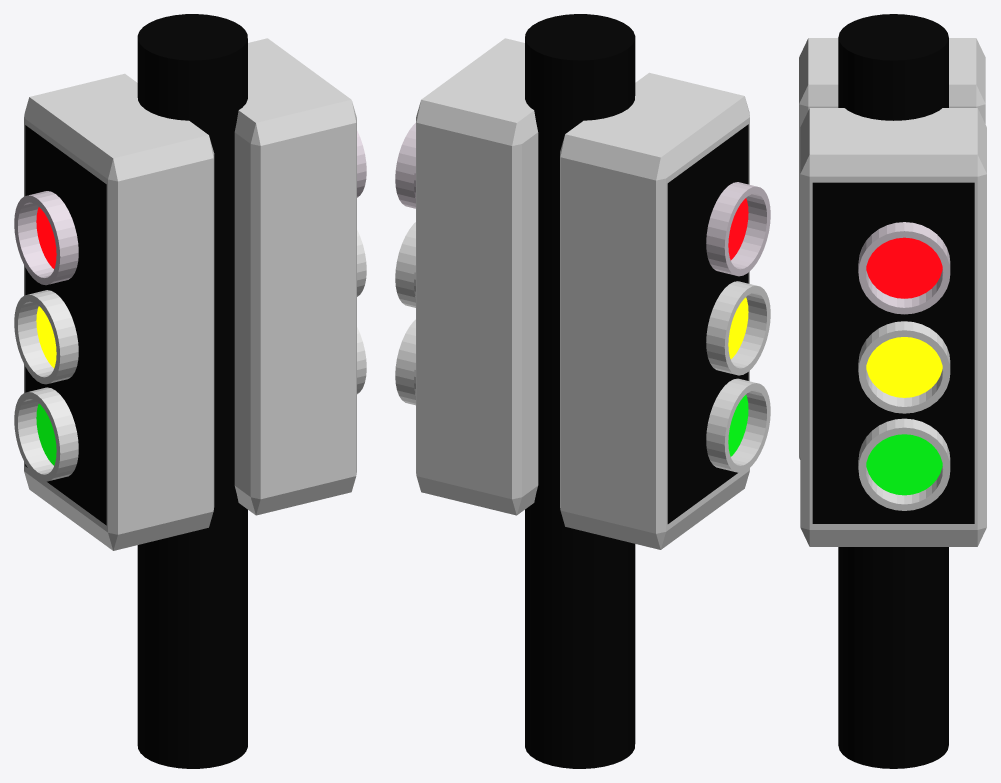
The model's file is uk_traffic_light_double_1.fbx.
The picture shows the model from 3 angles, left to right: view 1: azimuth 30°, elevation 25°; view 2: azimuth 150°, elevation 25°; view 3: azimuth 270°, elevation 25°; orthographic projection.
Parts seen in each view (by area): view 1: Cube.001, Cube, Cylinder, Circle.004, Circle.005, Circle.003; view 2: Cube.001, Cube, Cylinder, Circle.005, Circle.003, Circle.004, Circle.001, Circle.002, Circle; view 3: Cube, Cylinder, Circle.001, Circle.002, Circle, Cube.001.
Part boxes in pixels (x1,y1,x2,y2): Cube.001: (24, 73, 214, 550); Cube: (234, 38, 356, 515); Cylinder: (137, 14, 247, 768); Circle.004: (14, 290, 78, 384); Circle.005: (14, 191, 78, 285); Circle.003: (14, 387, 78, 481); Cube.001: (560, 72, 749, 549); Cube: (416, 38, 538, 515); Cylinder: (525, 14, 635, 768); Circle.005: (706, 182, 770, 276); Circle.003: (706, 378, 770, 472); Circle.004: (706, 281, 770, 375); Circle.001: (395, 222, 415, 307); Circle.002: (395, 319, 415, 405); Circle: (395, 123, 415, 208); Cube: (800, 108, 986, 546); Cylinder: (838, 14, 948, 768); Circle.001: (858, 321, 950, 413); Circle.002: (858, 418, 950, 510); Circle: (858, 222, 950, 314); Cube.001: (799, 38, 985, 459).
Bounding box in the file's own units: 11.97 × 25.48 × 6.13.
